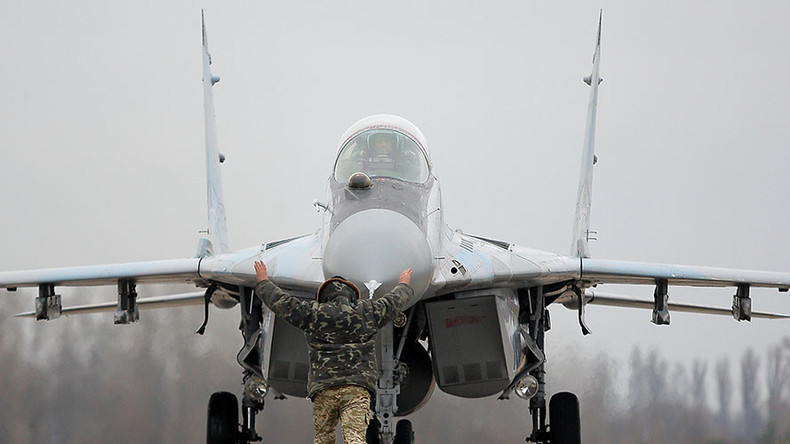Mig-29: (69, 19, 721, 432)
